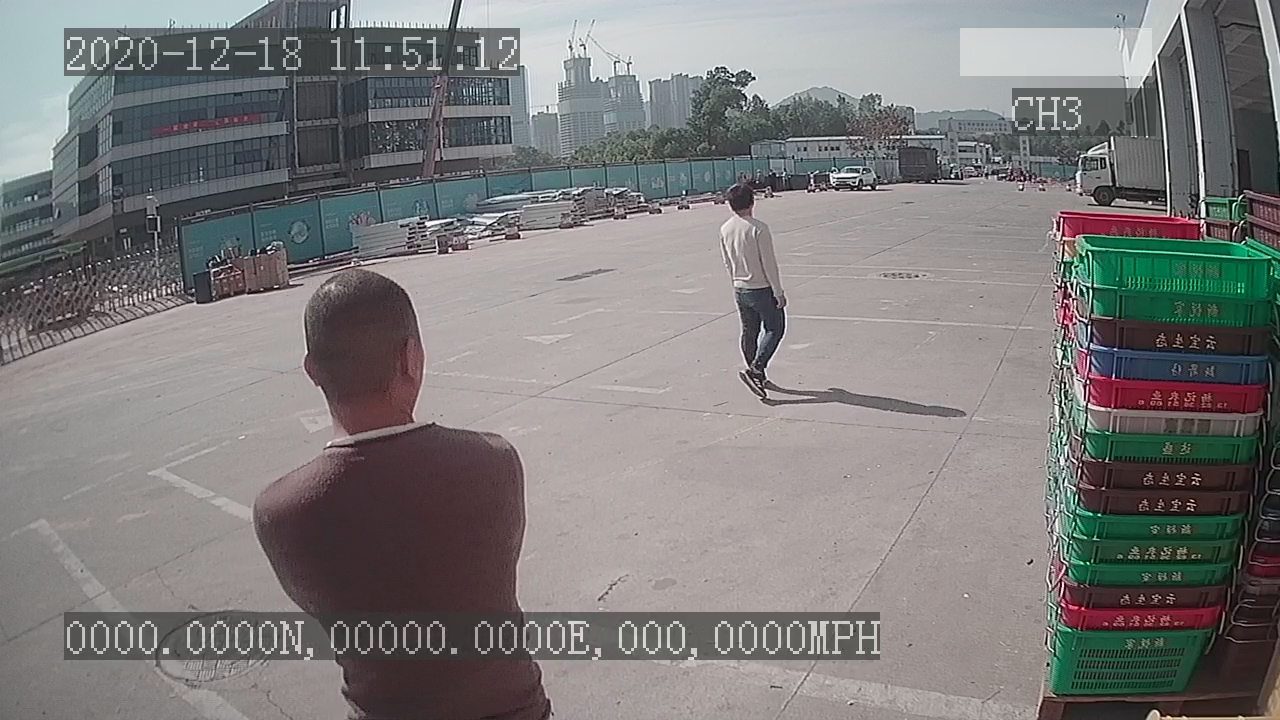person: (713, 179, 799, 408)
